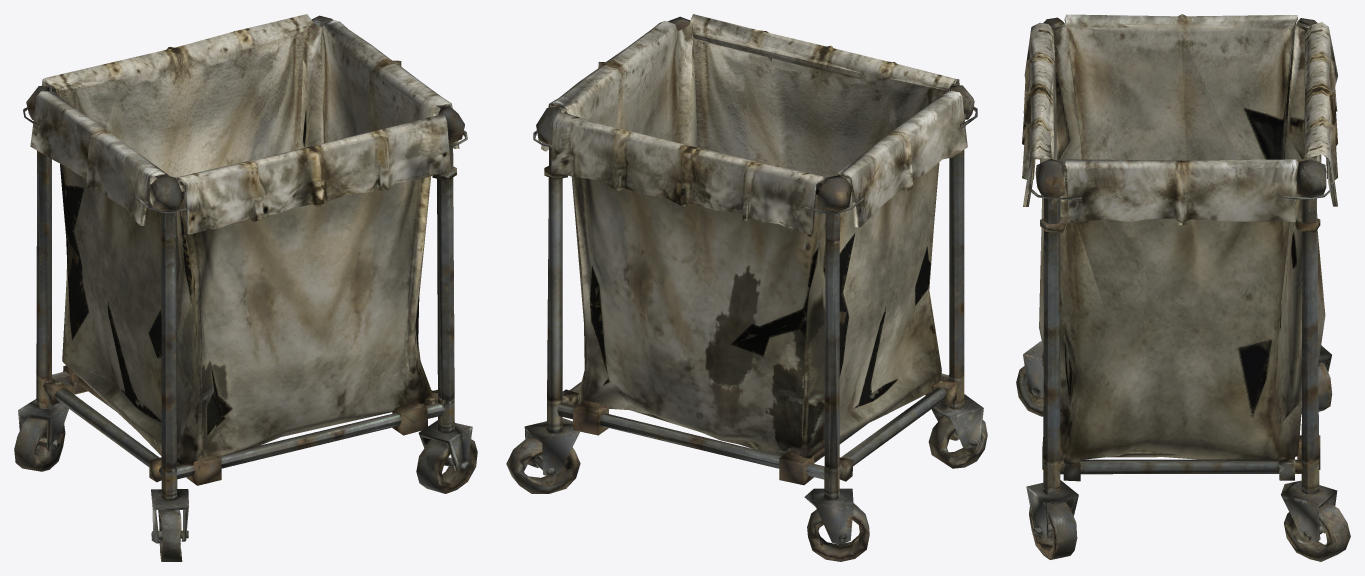
The model's file is DirtyLinenTrolley.fbx.
3 views of the same model, side by side, from view 1: azimuth 30°, elevation 25°; view 2: azimuth 150°, elevation 25°; view 3: azimuth 270°, elevation 25° (orthographic). The views are drawn at different scales.
Visible parts, largest first — view 1: mesh_node; view 2: mesh_node; view 3: mesh_node.
Boxes of the visible parts, box(x1,y1,x2,y2) form: mesh_node: box(14, 14, 477, 561); mesh_node: box(506, 14, 987, 561); mesh_node: box(1016, 14, 1350, 561).
Bounding box in the file's own units: 95.31 × 100 × 76.95.
Materials: 1 (1 with a texture image).
